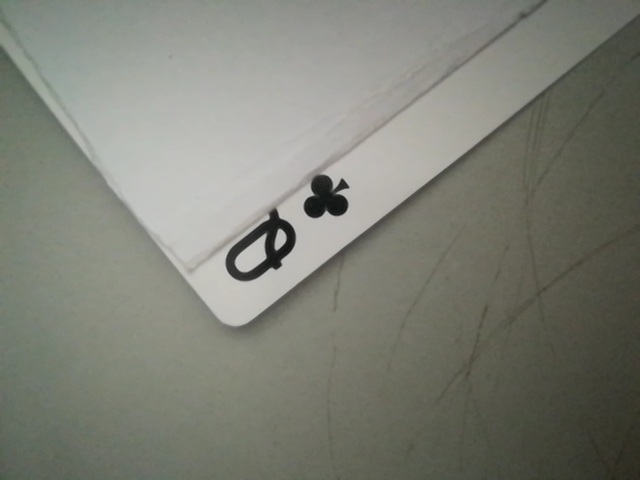mh q: (207, 166, 364, 312)
